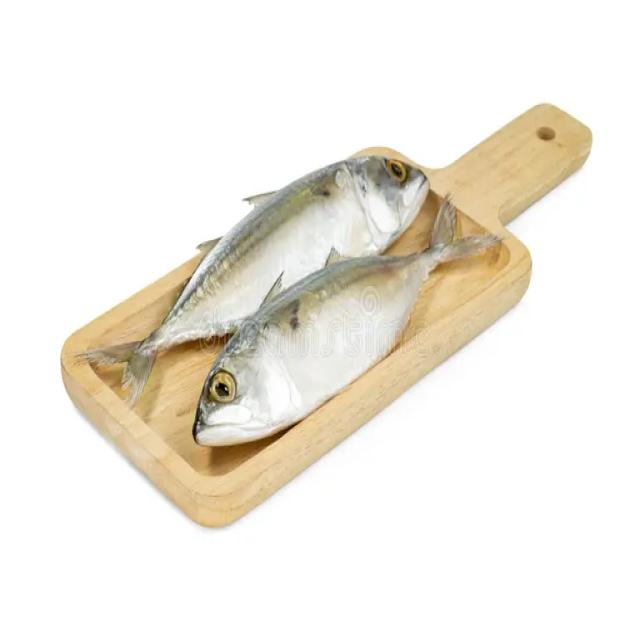Mackerel: (71, 151, 428, 398), (192, 192, 496, 446)
